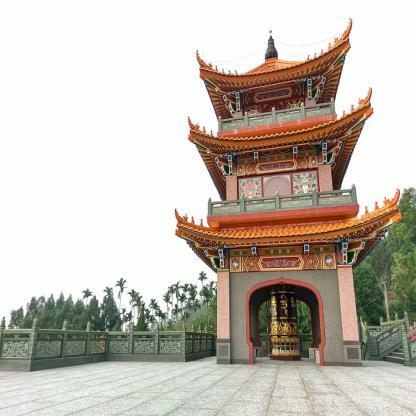Balcony: (208, 188, 357, 217), (219, 101, 336, 133)
Building Outline: (175, 17, 403, 367)
Deco: (229, 253, 337, 273), (237, 155, 318, 178), (243, 82, 304, 106)
Dont: (267, 284, 301, 361)
Door Hole: (249, 281, 321, 366)
Facade: (224, 57, 346, 366)
Floor: (225, 120, 334, 216)
Floor Slab: (217, 115, 337, 137), (207, 205, 359, 222)
Ground Floor: (217, 212, 363, 367)
Roof: (188, 100, 374, 200), (199, 17, 353, 123), (175, 204, 403, 274)
Top Floor: (235, 76, 314, 130)
